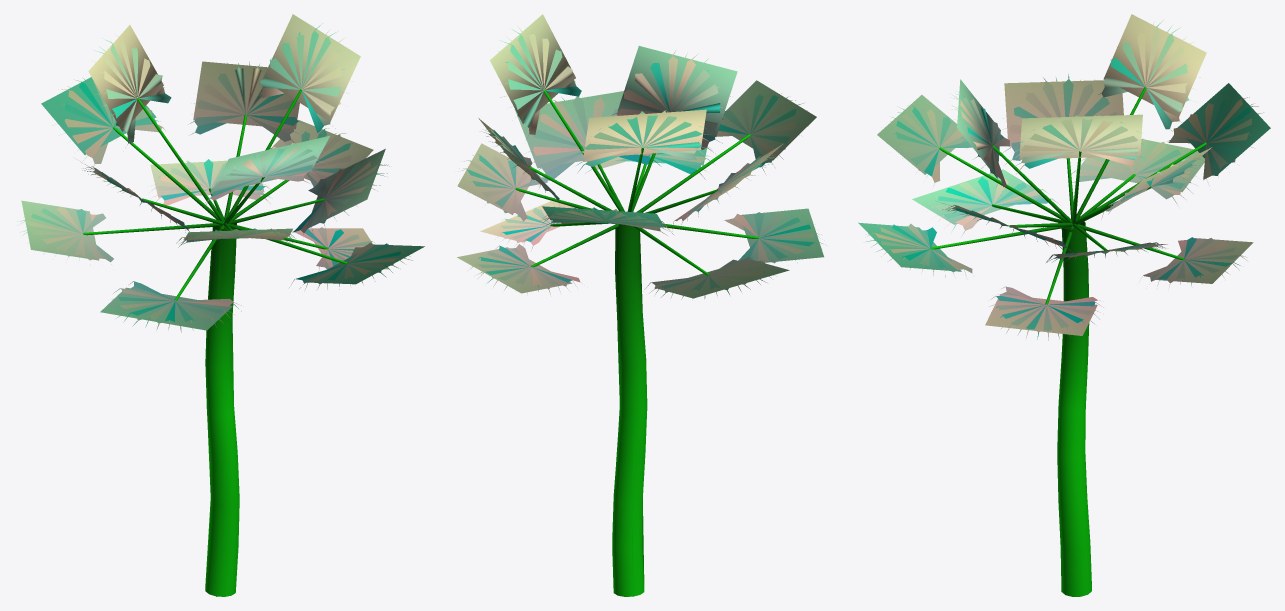
The model's file is fan_palm_2.glb.
3 views of the same model, side by side, from view 1: azimuth 30°, elevation 25°; view 2: azimuth 150°, elevation 25°; view 3: azimuth 270°, elevation 25° (orthographic).
Visible parts, largest first — view 1: near, mid; view 2: near, mid; view 3: near, mid.
Boxes of the visible parts, x1,y1,x2,y2 form: near: [17, 23, 412, 596]; mid: [21, 14, 424, 596]; near: [459, 26, 826, 596]; mid: [457, 14, 823, 595]; near: [865, 20, 1263, 596]; mid: [858, 14, 1270, 494].
Bounding box in the file's own units: 5.45 × 8.52 × 5.99.
